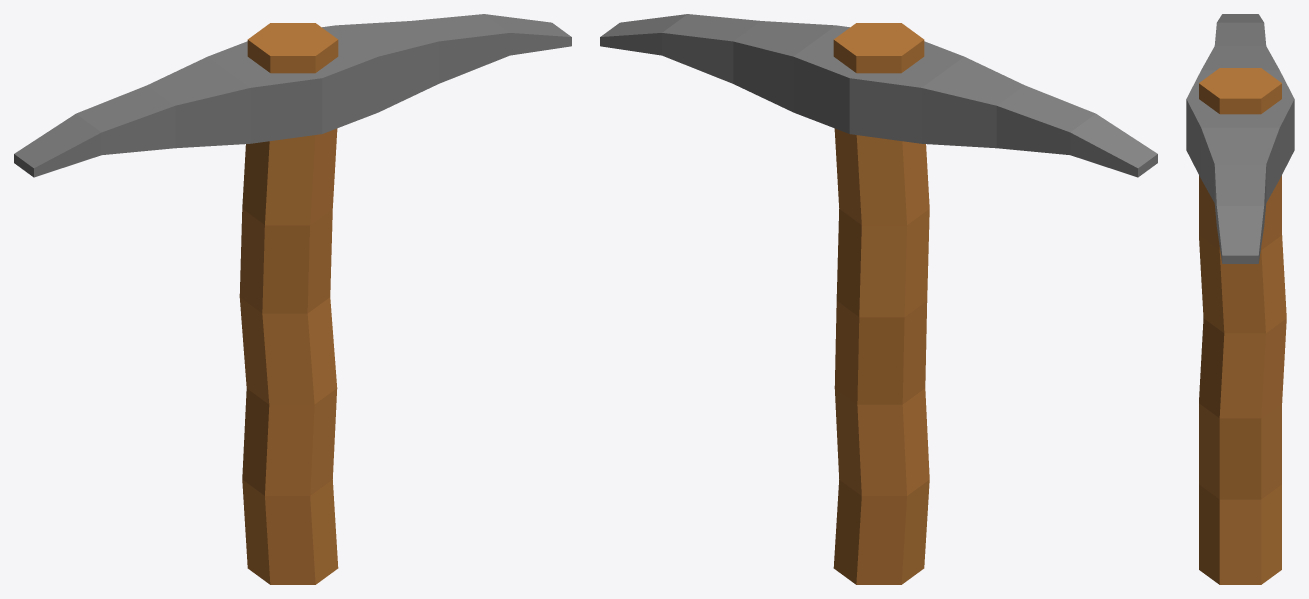
Rendered from Picaxe.fbx.
The picture shows the model from 3 angles, left to right: view 1: azimuth 30°, elevation 25°; view 2: azimuth 150°, elevation 25°; view 3: azimuth 270°, elevation 25°; orthographic projection. The views are drawn at different scales.
Parts seen in each view (by area): view 1: Picaxe; view 2: Picaxe; view 3: Picaxe.
Boxes of the visible parts, x1=… form: Picaxe: x1=14, y1=14, x2=571, y2=584; Picaxe: x1=600, y1=14, x2=1157, y2=584; Picaxe: x1=1186, y1=14, x2=1294, y2=584.
Bounding box in the file's own units: 54.88 × 51.55 × 10.39.
